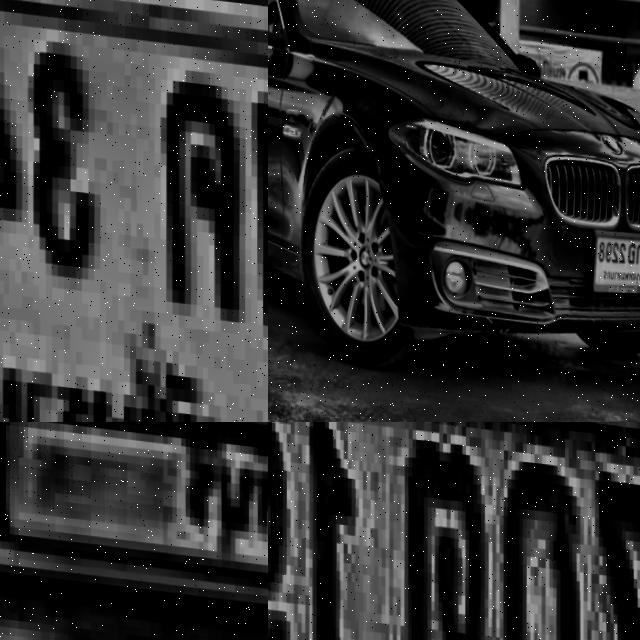license-plate: (0, 0, 268, 422), (268, 422, 640, 640), (0, 422, 268, 628), (584, 212, 640, 296)
